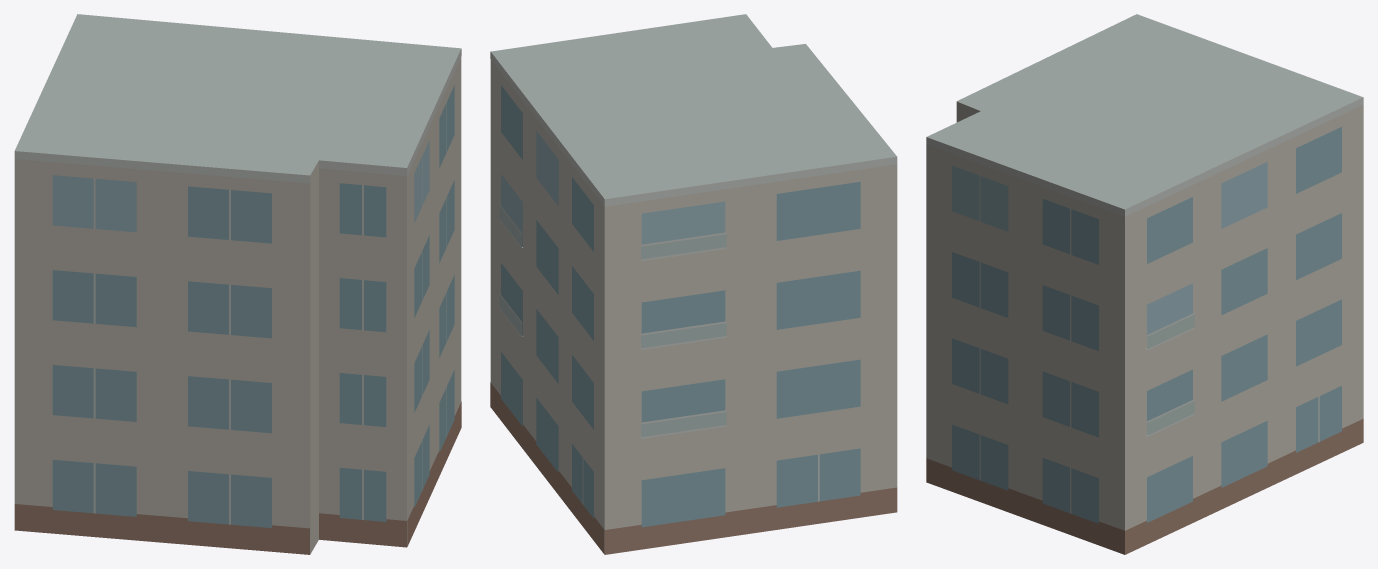
File: survey-upis-32615050.glb
The picture shows the model from 3 angles, left to right: view 1: azimuth 30°, elevation 25°; view 2: azimuth 150°, elevation 25°; view 3: azimuth 270°, elevation 25°; orthographic projection. The views are drawn at different scales.
Visible parts, largest first — view 1: survey-upis-32615050.tmp; view 2: survey-upis-32615050.tmp; view 3: survey-upis-32615050.tmp.
Boxes of the visible parts, left/top/right/bottom form: survey-upis-32615050.tmp: left=14, top=14, right=461, bottom=554; survey-upis-32615050.tmp: left=490, top=14, right=897, bottom=554; survey-upis-32615050.tmp: left=926, top=14, right=1363, bottom=554.
Bounding box in the file's own units: 14.1 × 11.6 × 13.32.
